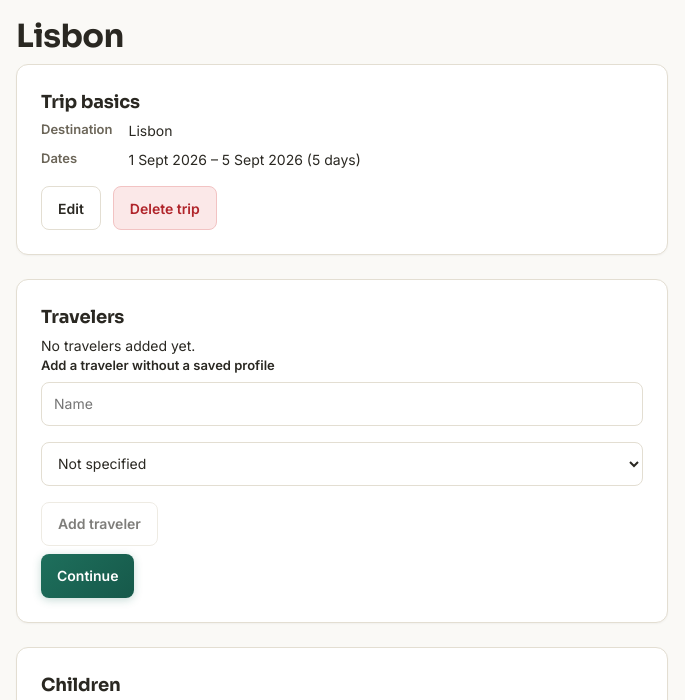
it: TripWizardPage › shows a safe error and stays on the page when delete fails
Expected: the heading "Lisbon" is shown, [16, 16, 124, 56]
Click the button "Delete trip". click: {"x": 165, "y": 208}
box: [113, 186, 217, 230]
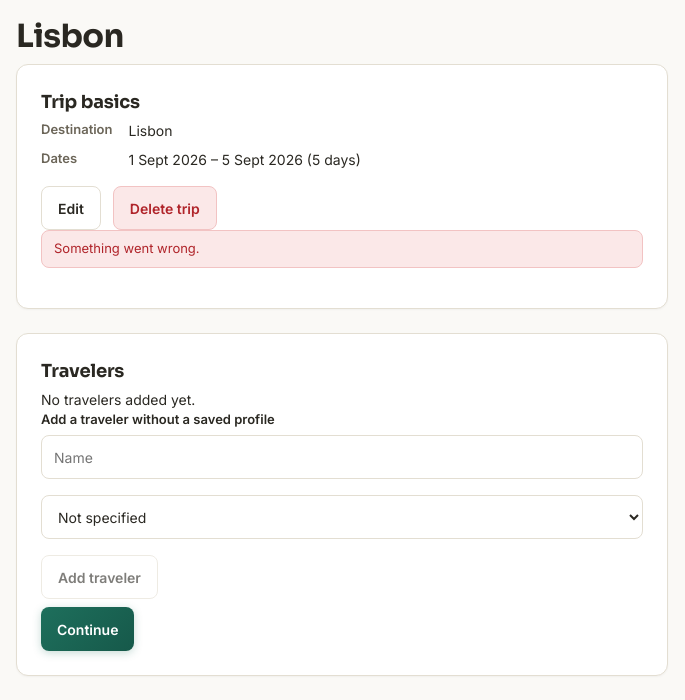
Expected: the heading "Lisbon" is shown, [16, 16, 124, 56]
Result: the message shows "Something went wrong" at [54, 240, 200, 256]
